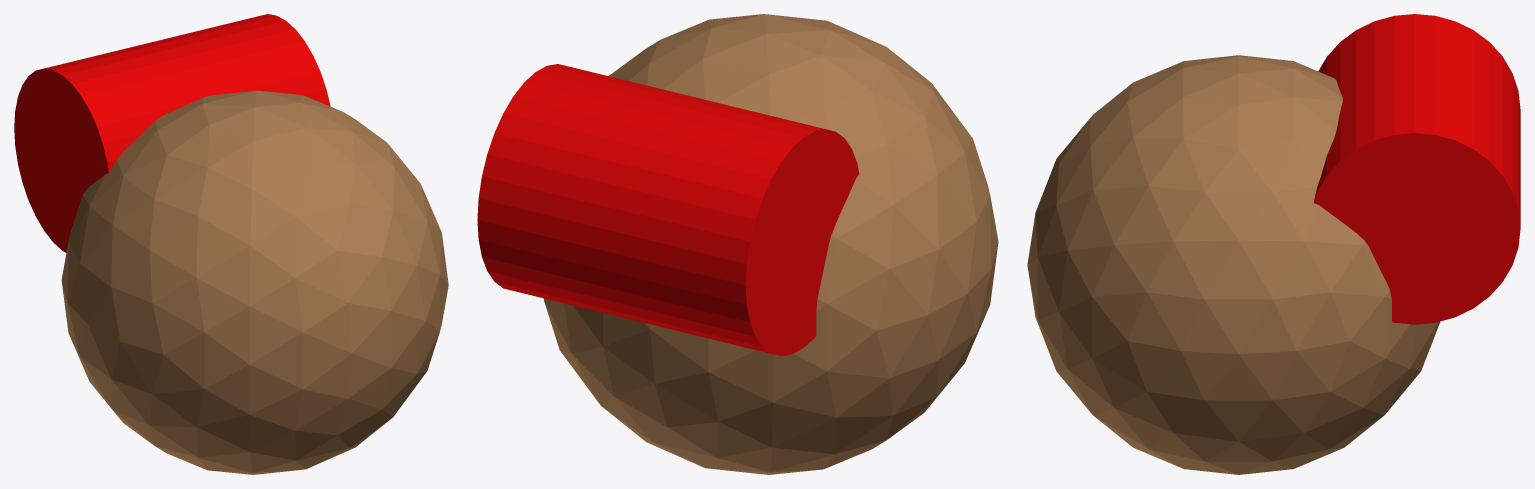
Rendered from soda.glb.
3 renders of one model, left to right at view 1: azimuth 30°, elevation 25°; view 2: azimuth 150°, elevation 25°; view 3: azimuth 270°, elevation 25°, orthographic. The views are drawn at different scales.
Visible parts, largest first — view 1: world; view 2: world; view 3: world.
Part boxes in pixels (x1,y1,x2,y2): world: (14, 14, 448, 474); world: (477, 14, 998, 474); world: (1027, 14, 1520, 474).
Size of the model in its own units: 1.2 by 1.2 by 1.4.
